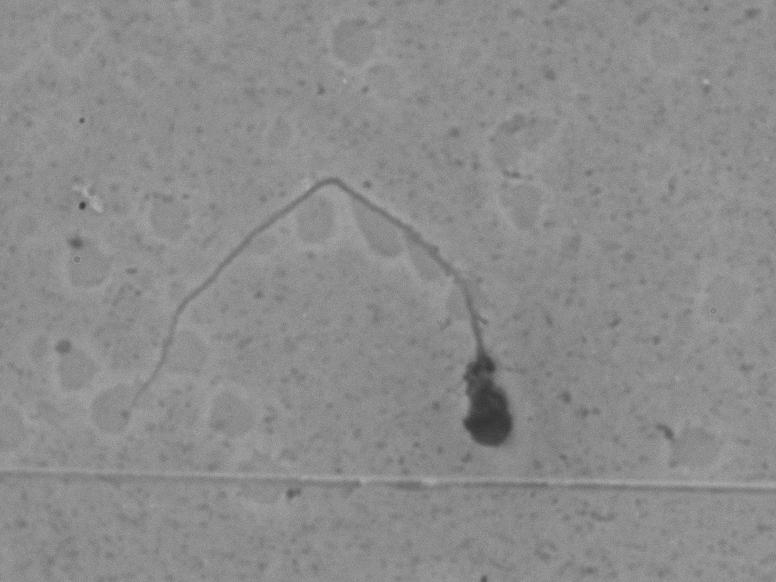Abnormal: (95, 140, 552, 472)
